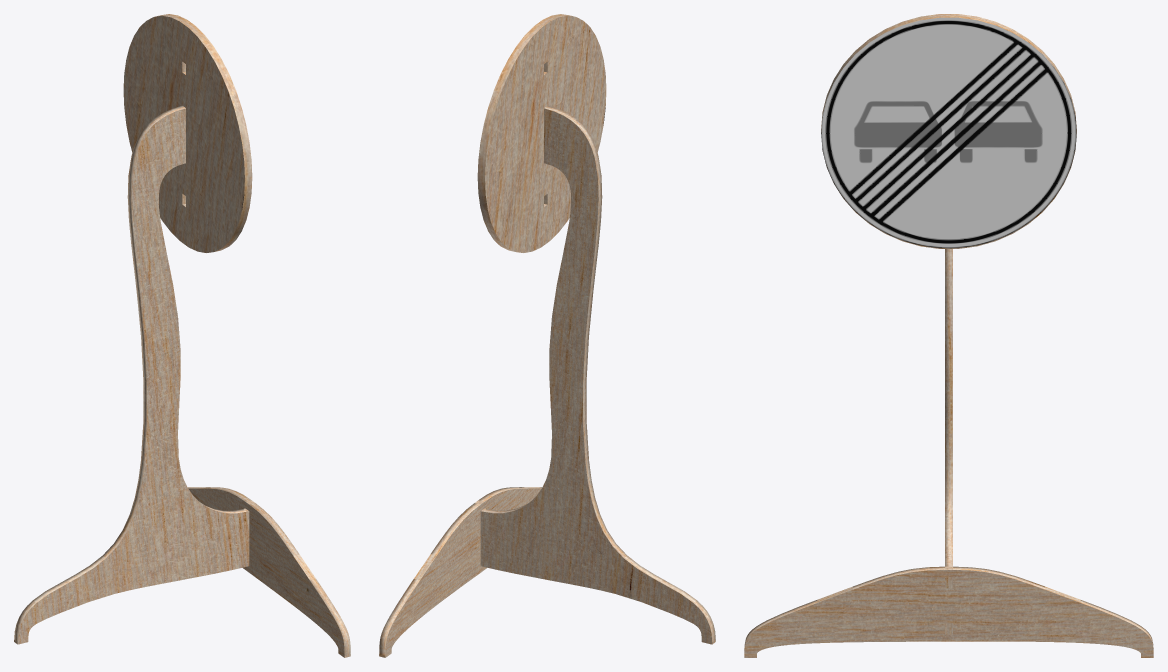
Rendered from No_pass_end.dae.
The picture shows the model from 3 angles, left to right: view 1: azimuth 30°, elevation 25°; view 2: azimuth 150°, elevation 25°; view 3: azimuth 270°, elevation 25°; orthographic projection. The views are drawn at different scales.
Parts seen in each view (by area): view 1: Body1, Body1_2, Body1_1; view 2: Body1, Body1_2, Body1_1; view 3: Body1_2, Body1_1, Body1.
Part boxes in pixels (x1,y1,x2,y2): Body1: (14,105,249,644); Body1_2: (123,14,252,252); Body1_1: (187,487,350,657); Body1: (480,105,715,644); Body1_2: (477,14,606,252); Body1_1: (379,487,542,657); Body1_2: (821,14,1076,248); Body1_1: (744,566,1153,657); Body1: (945,249,952,634).
Bounding box in the file's own units: 113 × 160 × 262.
2 materials, 2 textured.
